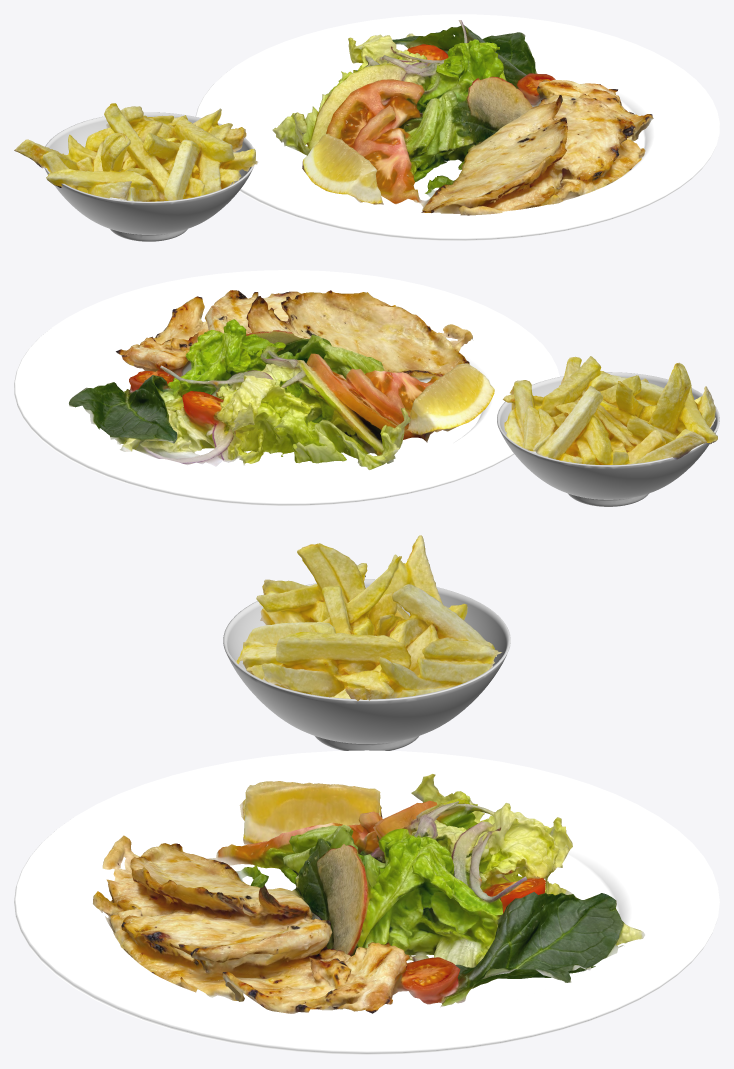
File: Frango.glb
3 views of the same model, one above another, from view 1: azimuth 30°, elevation 25°; view 2: azimuth 150°, elevation 25°; view 3: azimuth 270°, elevation 25° (orthographic). The views are drawn at different scales.
Parts seen in each view (by area): view 1: Mesh_0, Circle, Mesh_0.001, Bowl_Mesh; view 2: Mesh_0, Circle, Mesh_0.001, Bowl_Mesh; view 3: Mesh_0, Circle, Mesh_0.001, Bowl_Mesh.
Boxes of the visible parts, x1,y1,x2,y2 form: Mesh_0: (272, 20, 653, 215); Circle: (195, 14, 719, 240); Mesh_0.001: (14, 103, 258, 201); Bowl_Mesh: (44, 112, 254, 241); Mesh_0: (69, 290, 494, 469); Circle: (14, 270, 559, 505); Mesh_0.001: (503, 356, 717, 464); Bowl_Mesh: (497, 372, 719, 506); Mesh_0: (93, 774, 644, 1013); Circle: (14, 750, 719, 1054); Mesh_0.001: (234, 535, 501, 701); Bowl_Mesh: (223, 579, 510, 750).
Size of the model in its own units: 0.4758 by 0.0834 by 0.333.
Materials: 4 (2 with a texture image).
